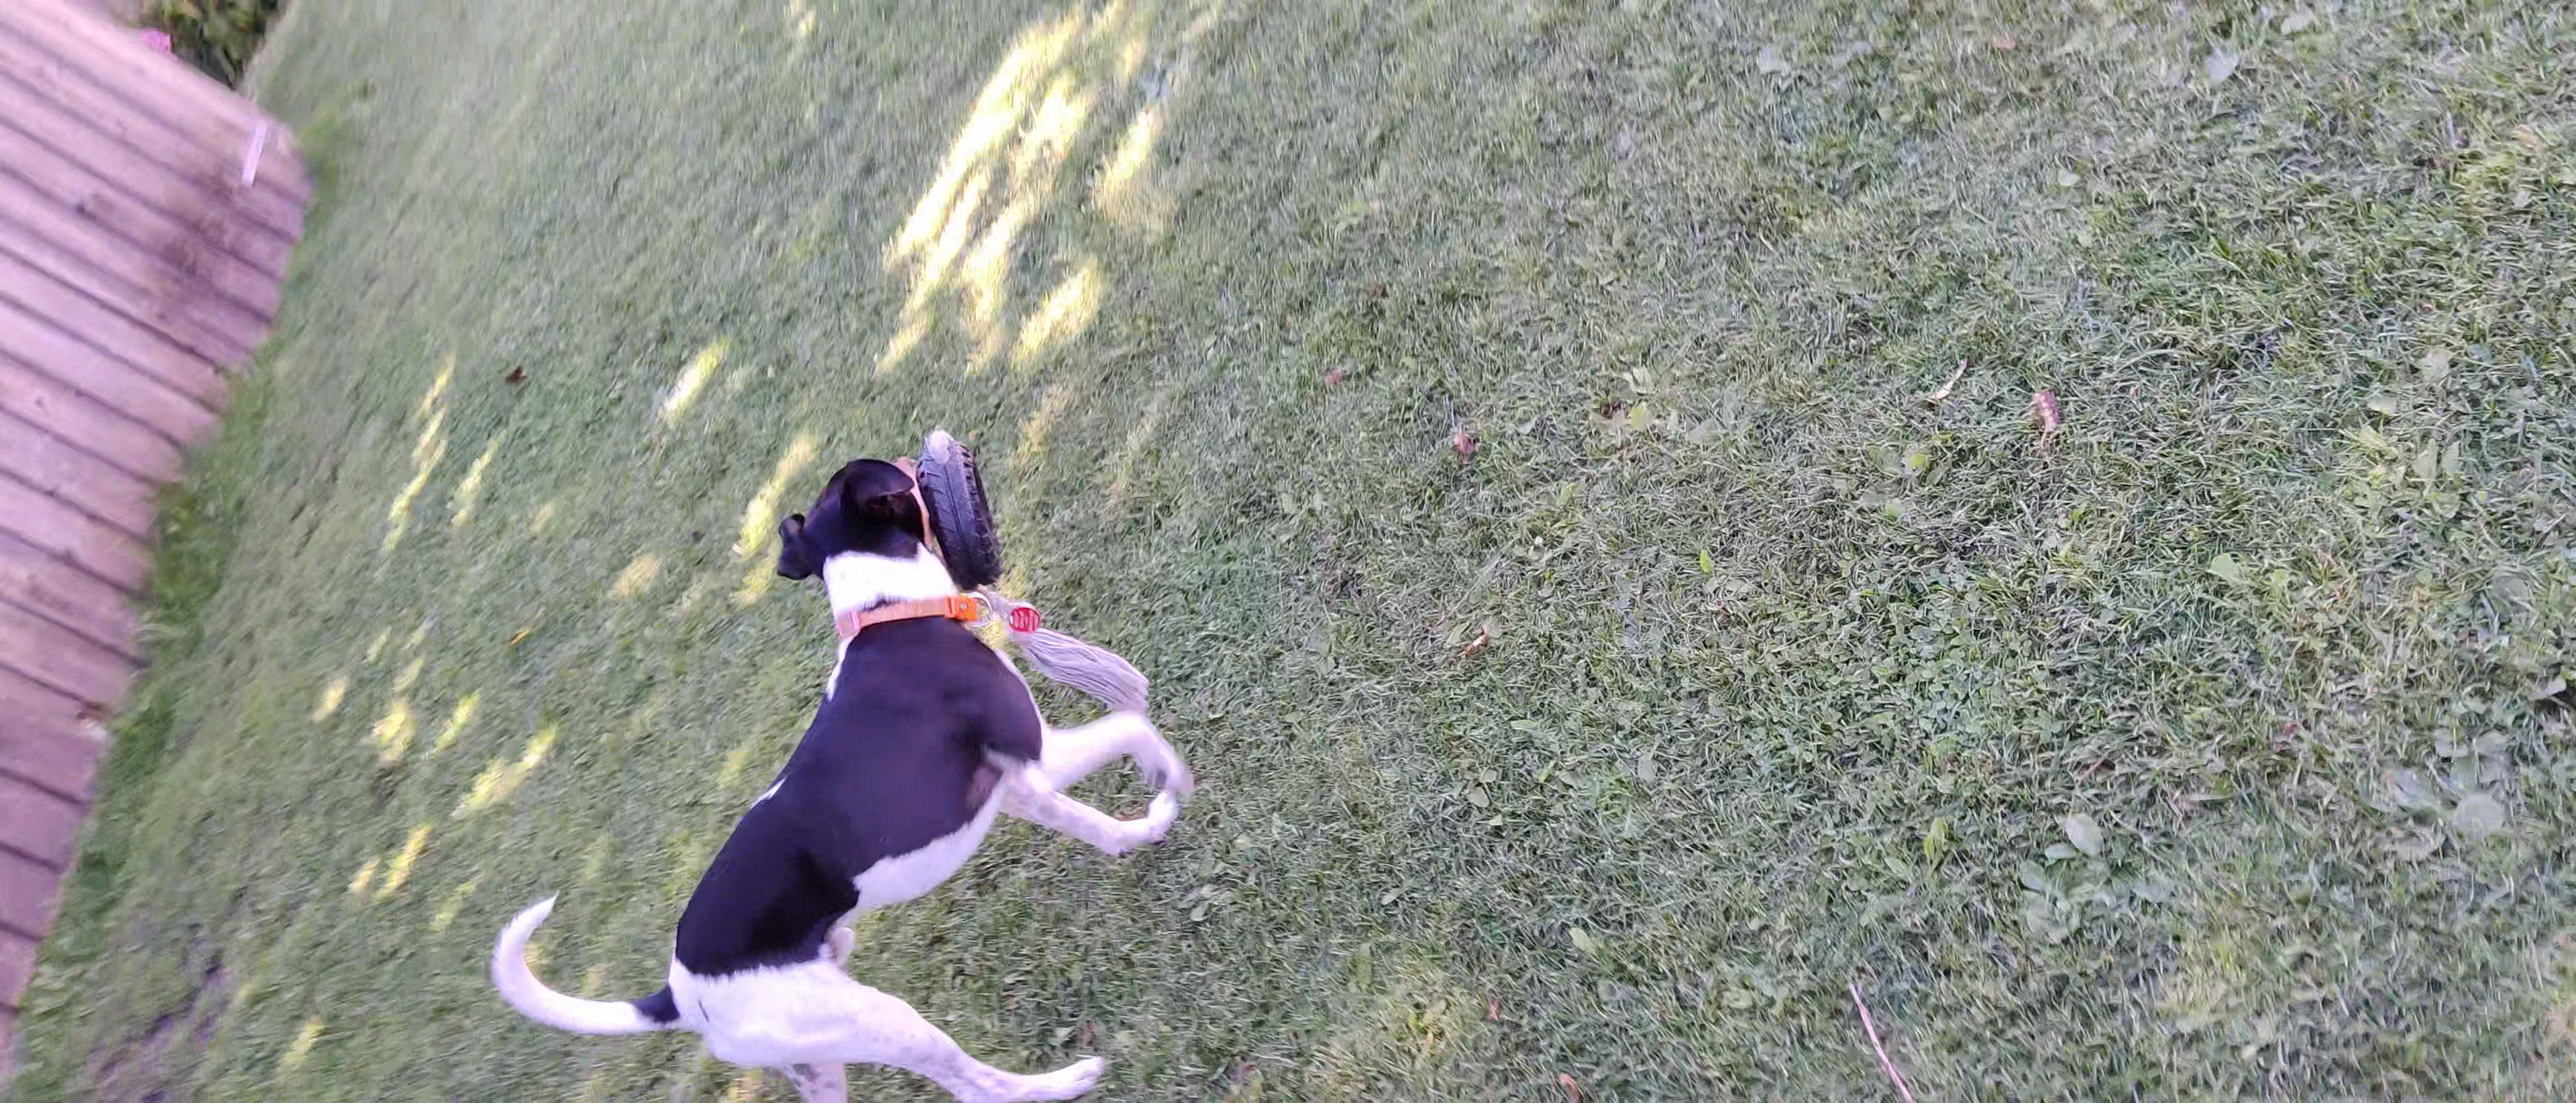Dog: (481, 445, 1201, 1103)
